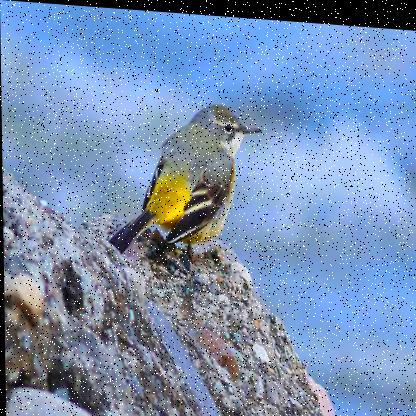Burung: (113, 94, 263, 271)
